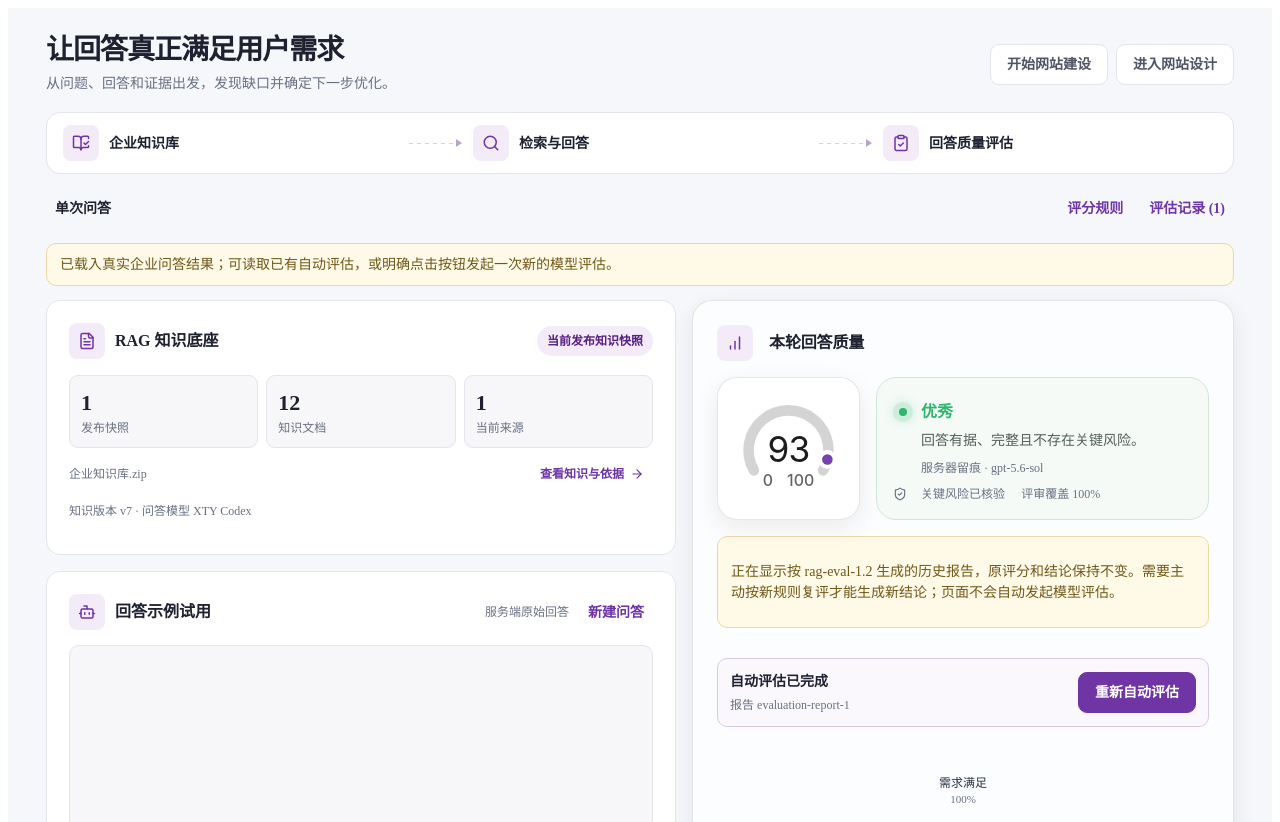
Test: enterprise RAG evidence-based review UI › recovers the immutable latest automatic report on refresh without posting again
Expected: the element with test id "rag-evaluation-score" shows "93", [768,428,810,471]
Expected: the text "报告 evaluation-report-1" is shown, [730,696,850,714]
Click the button "评估记录 (1)" at (1187, 209), box [1140,192,1234,226]
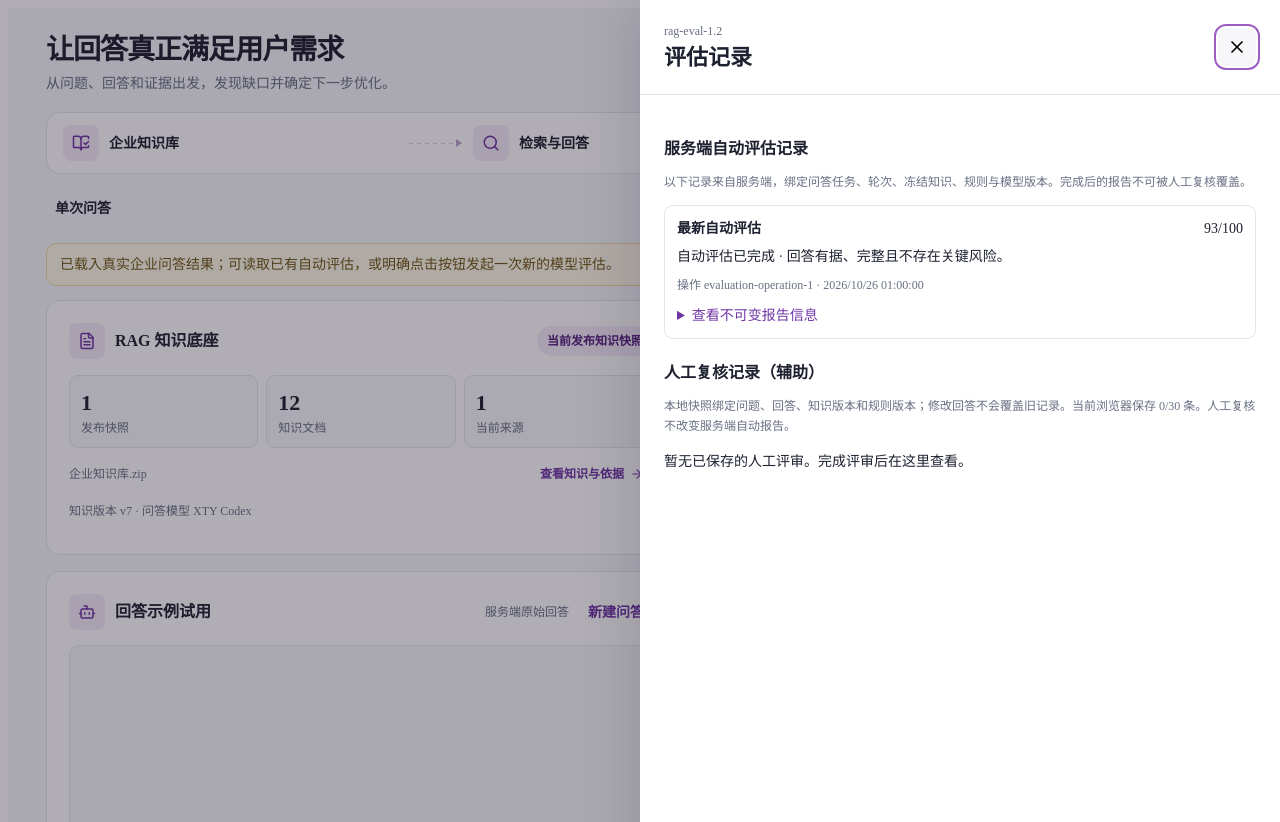
Expected: the heading "服务端自动评估记录" is shown, [664,140,808,157]
Expected: the text named "六维诊断评分 93，满分 100" reads "93/100", [1204,221,1243,236]
Expected: the text "人工复核不改变服务端自动报告" is shown, [664,399,1255,433]
